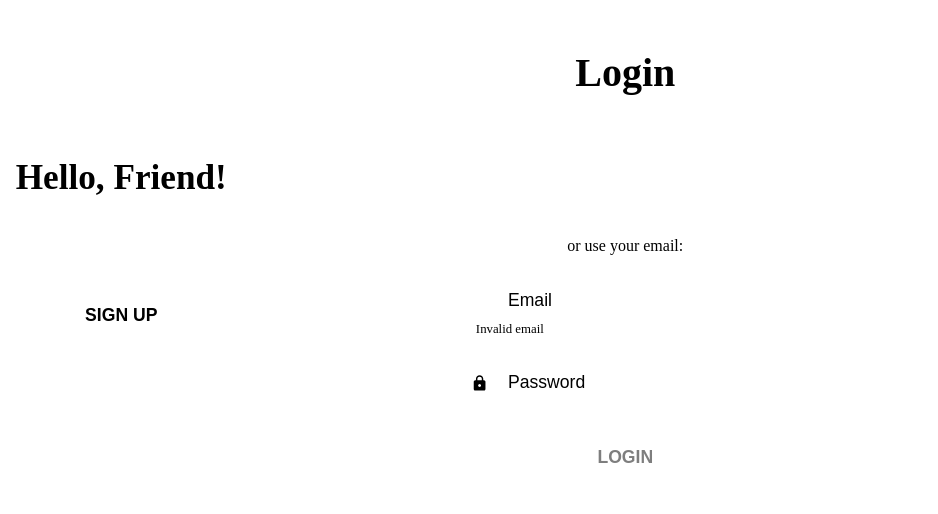
Scenario: login: toggle twice
This screenshot has width=938, height=514.
What coordinates should you click on to do the following:
click the button "Sign Up"
I would click on:
 (121, 316)
Its box is left=62, top=294, right=180, bottom=338.
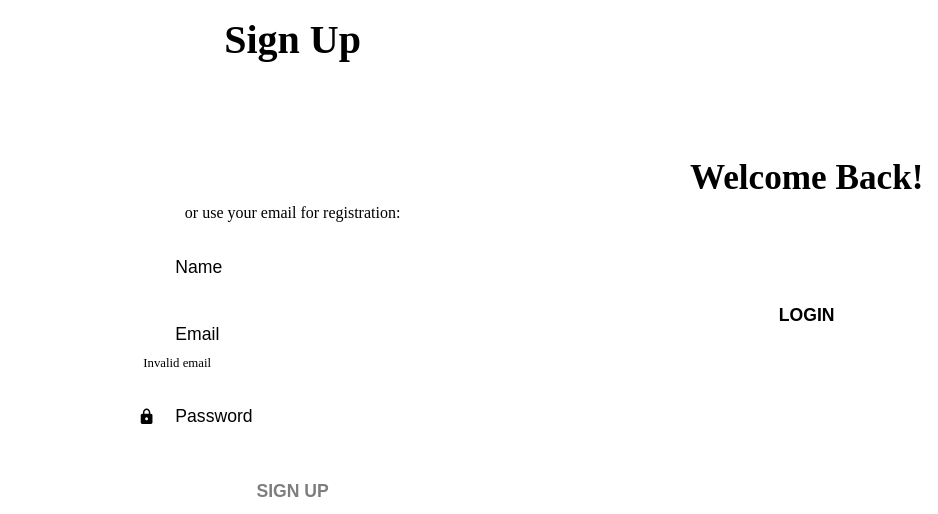
Result: the heading "Sign Up" is shown at left=224, top=16, right=361, bottom=63
What coordinates should you click on to do the following:
click the button "Login"
I would click on:
 (807, 316)
Its box is left=756, top=294, right=858, bottom=338.
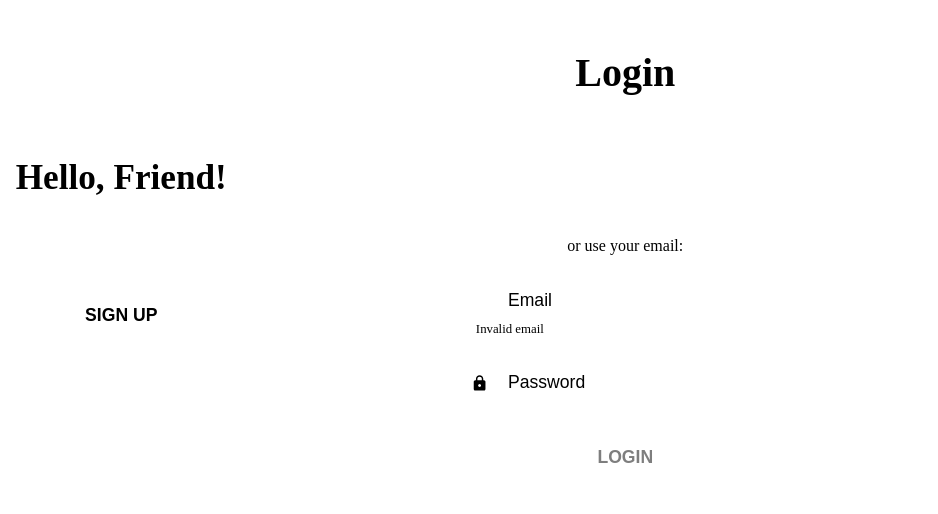
Result: the heading "Login" is shown at left=575, top=50, right=675, bottom=97
